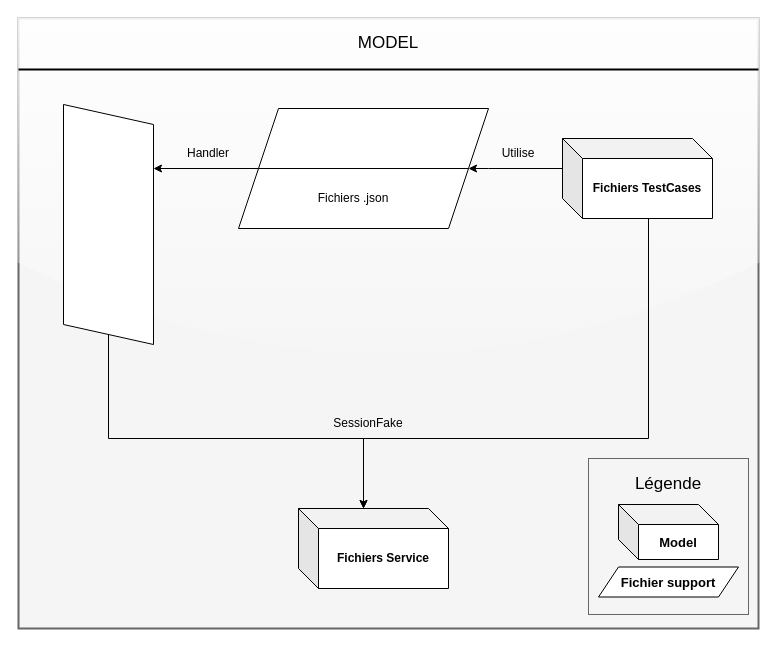
The diagram is 777 pixels wide and 646 high, and some of its shapes have lost their labels. Each missing label, with the box of its shape:
Fichiers FakeResponseDataError: (258, 108, 488, 168)
MockURLProtocol: (62, 104, 154, 344)
